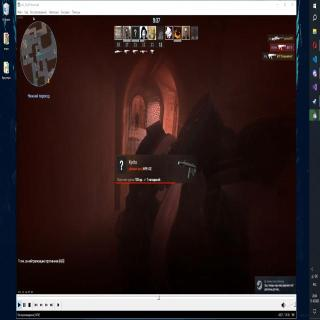CT-Body: (133, 109, 141, 133)
CT-Head: (135, 111, 139, 117)
